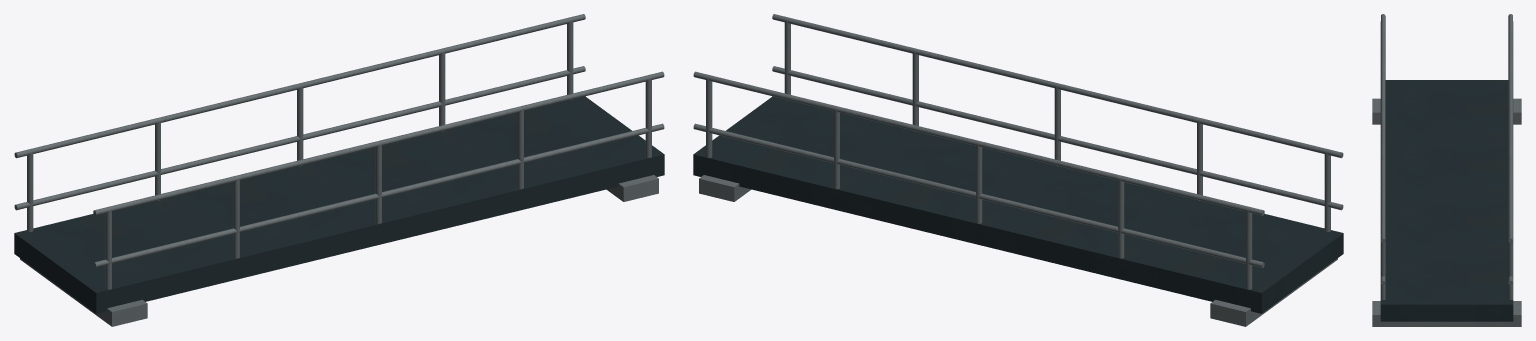
Rendered from NC_MaintenanceBridge_LOD1.fbx.
3 views of the same model, side by side, from view 1: azimuth 30°, elevation 25°; view 2: azimuth 150°, elevation 25°; view 3: azimuth 270°, elevation 25° (orthographic). The views are drawn at different scales.
Visible parts, largest first — view 1: NC_MaintenanceBridge_LOD1; view 2: NC_MaintenanceBridge_LOD1; view 3: NC_MaintenanceBridge_LOD1.
Part boxes in pixels (x1,y1,x2,y2): NC_MaintenanceBridge_LOD1: (14, 14, 664, 326); NC_MaintenanceBridge_LOD1: (693, 14, 1343, 326); NC_MaintenanceBridge_LOD1: (1372, 14, 1521, 326).
Size of the model in its own units: 800 by 154 by 225.
